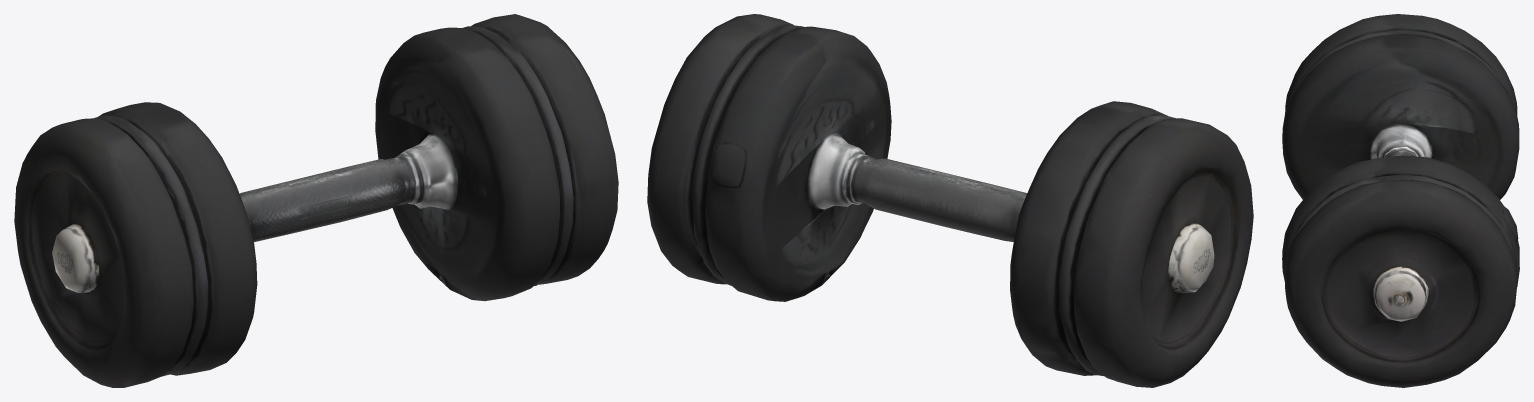
Rendered from hantel.glb.
3 renders of one model, left to right at view 1: azimuth 30°, elevation 25°; view 2: azimuth 150°, elevation 25°; view 3: azimuth 270°, elevation 25°, orthographic. The views are drawn at different scales.
Parts seen in each view (by area): view 1: Mesh1.0; view 2: Mesh1.0; view 3: Mesh1.0.
Part boxes in pixels (<box>): Mesh1.0: <box>14,14,618,387</box>; Mesh1.0: <box>647,14,1253,387</box>; Mesh1.0: <box>1282,14,1519,387</box>.
Bounding box in the file's own units: 1.99 × 0.9323 × 1.01.
Materials: 1 (1 with a texture image).
